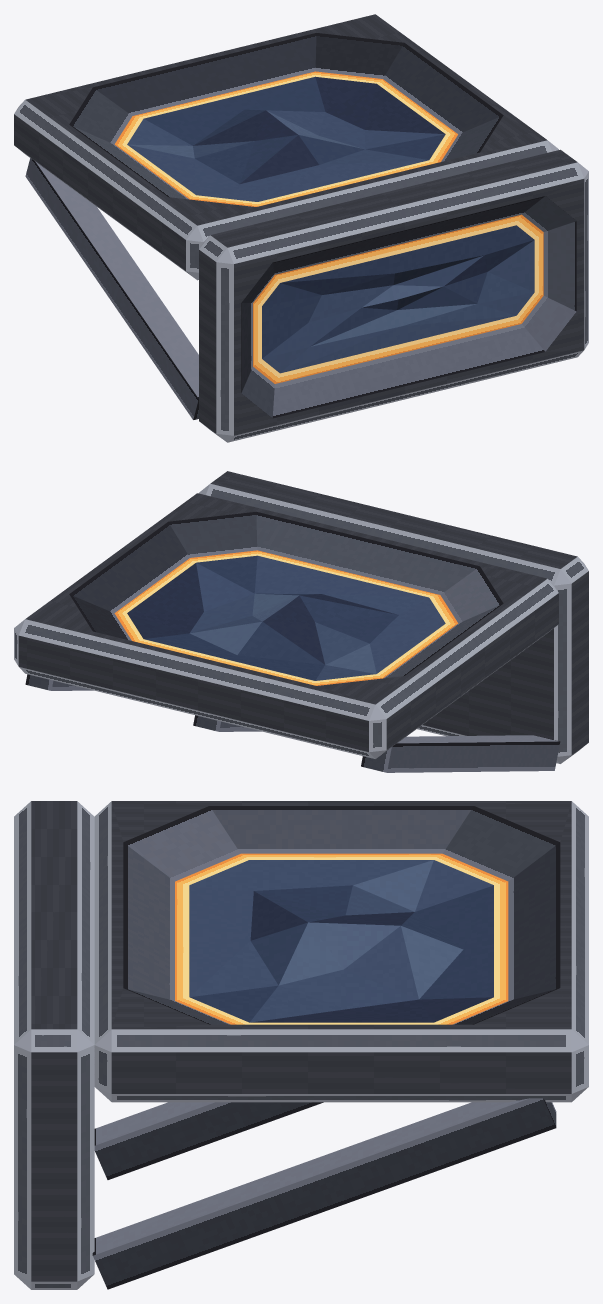
File: marlit_bracket.glb
The picture shows the model from 3 angles, top to bottom: view 1: azimuth 30°, elevation 25°; view 2: azimuth 150°, elevation 25°; view 3: azimuth 270°, elevation 25°; orthographic projection. The views are drawn at different scales.
Visible parts, largest first — view 1: marlit_bracket_body; view 2: marlit_bracket_body; view 3: marlit_bracket_body.
Boxes of the visible parts, x1,y1,x2,y2 form: marlit_bracket_body: [14, 14, 588, 442]; marlit_bracket_body: [14, 471, 588, 772]; marlit_bracket_body: [14, 801, 588, 1289].
Size of the model in its own units: 2 by 1 by 2.
Materials: 1 (1 with a texture image).
